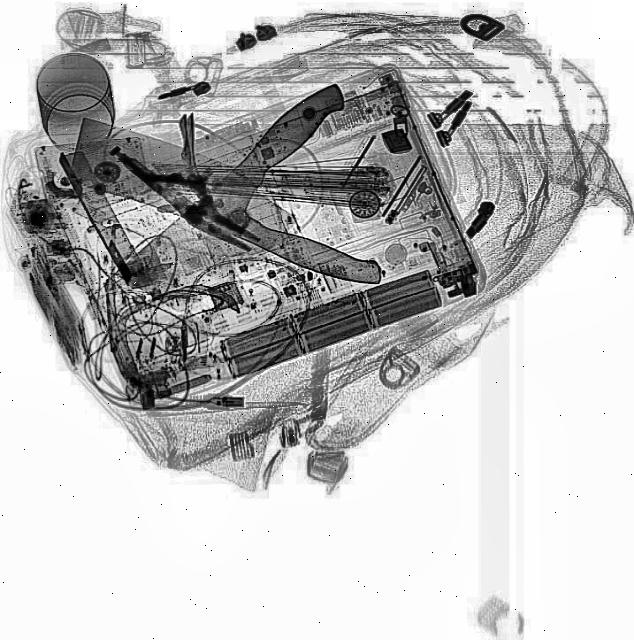Knife: (115, 75, 390, 332), (58, 118, 402, 294)
